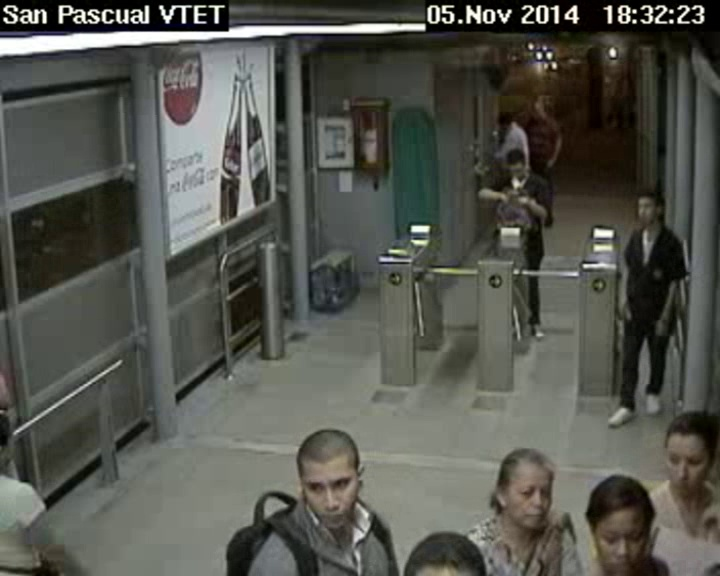person: (578, 458, 658, 576), (291, 422, 370, 536), (652, 400, 719, 501), (488, 442, 556, 535), (403, 519, 495, 576), (630, 190, 669, 229), (503, 149, 530, 181), (496, 110, 511, 133), (531, 97, 546, 117)
